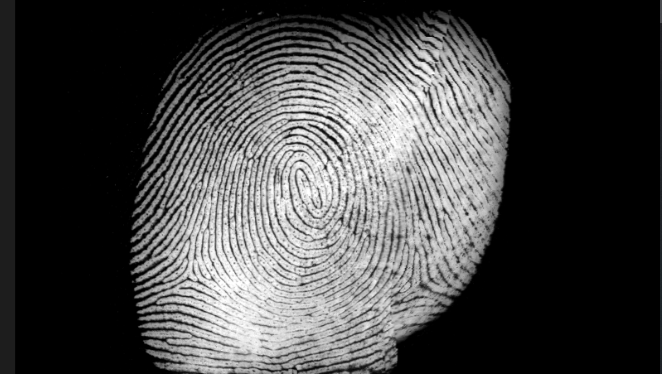nucelo: (285, 158, 318, 210)
verticilo: (399, 270, 433, 305), (174, 255, 206, 291)
